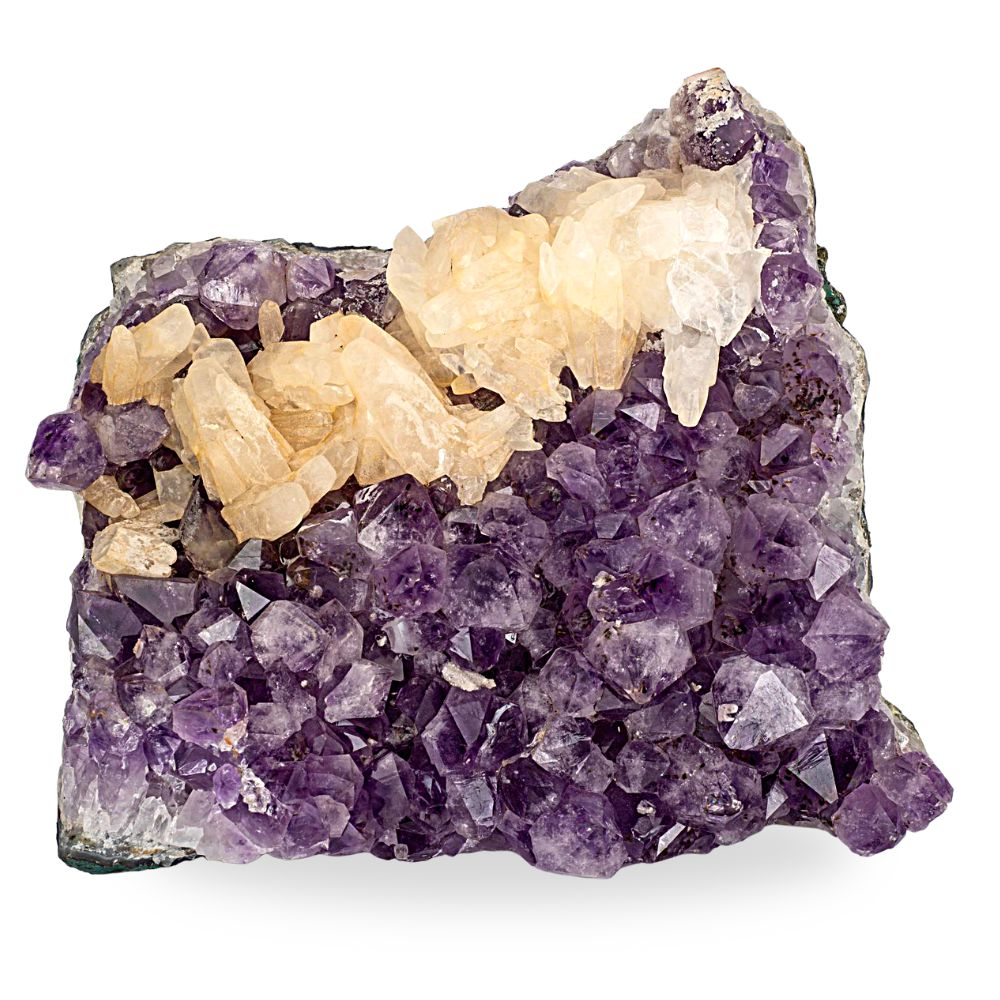Amethyst: (23, 68, 956, 881)
